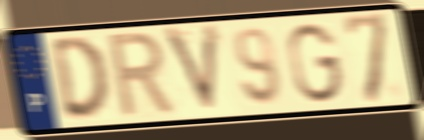7: (340, 11, 393, 107)
9: (231, 26, 285, 109)
D: (48, 33, 113, 124)
G: (285, 21, 347, 106)
R: (106, 28, 180, 123)
V: (159, 21, 224, 120)
